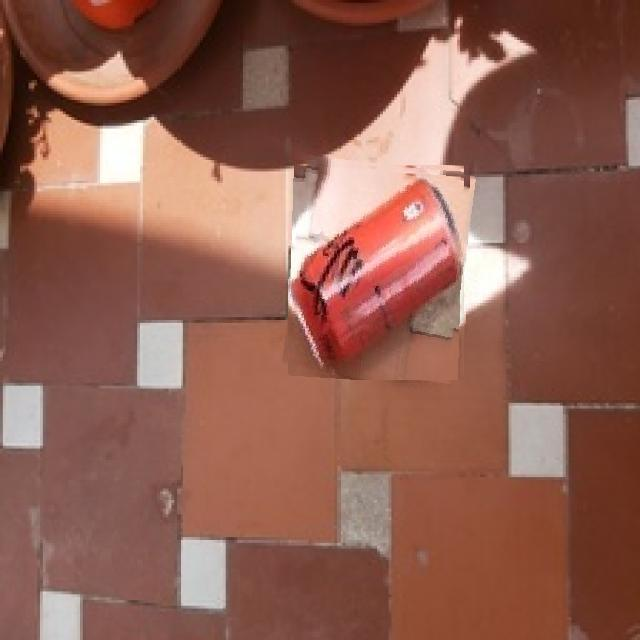recyclable: (288, 160, 470, 380)
